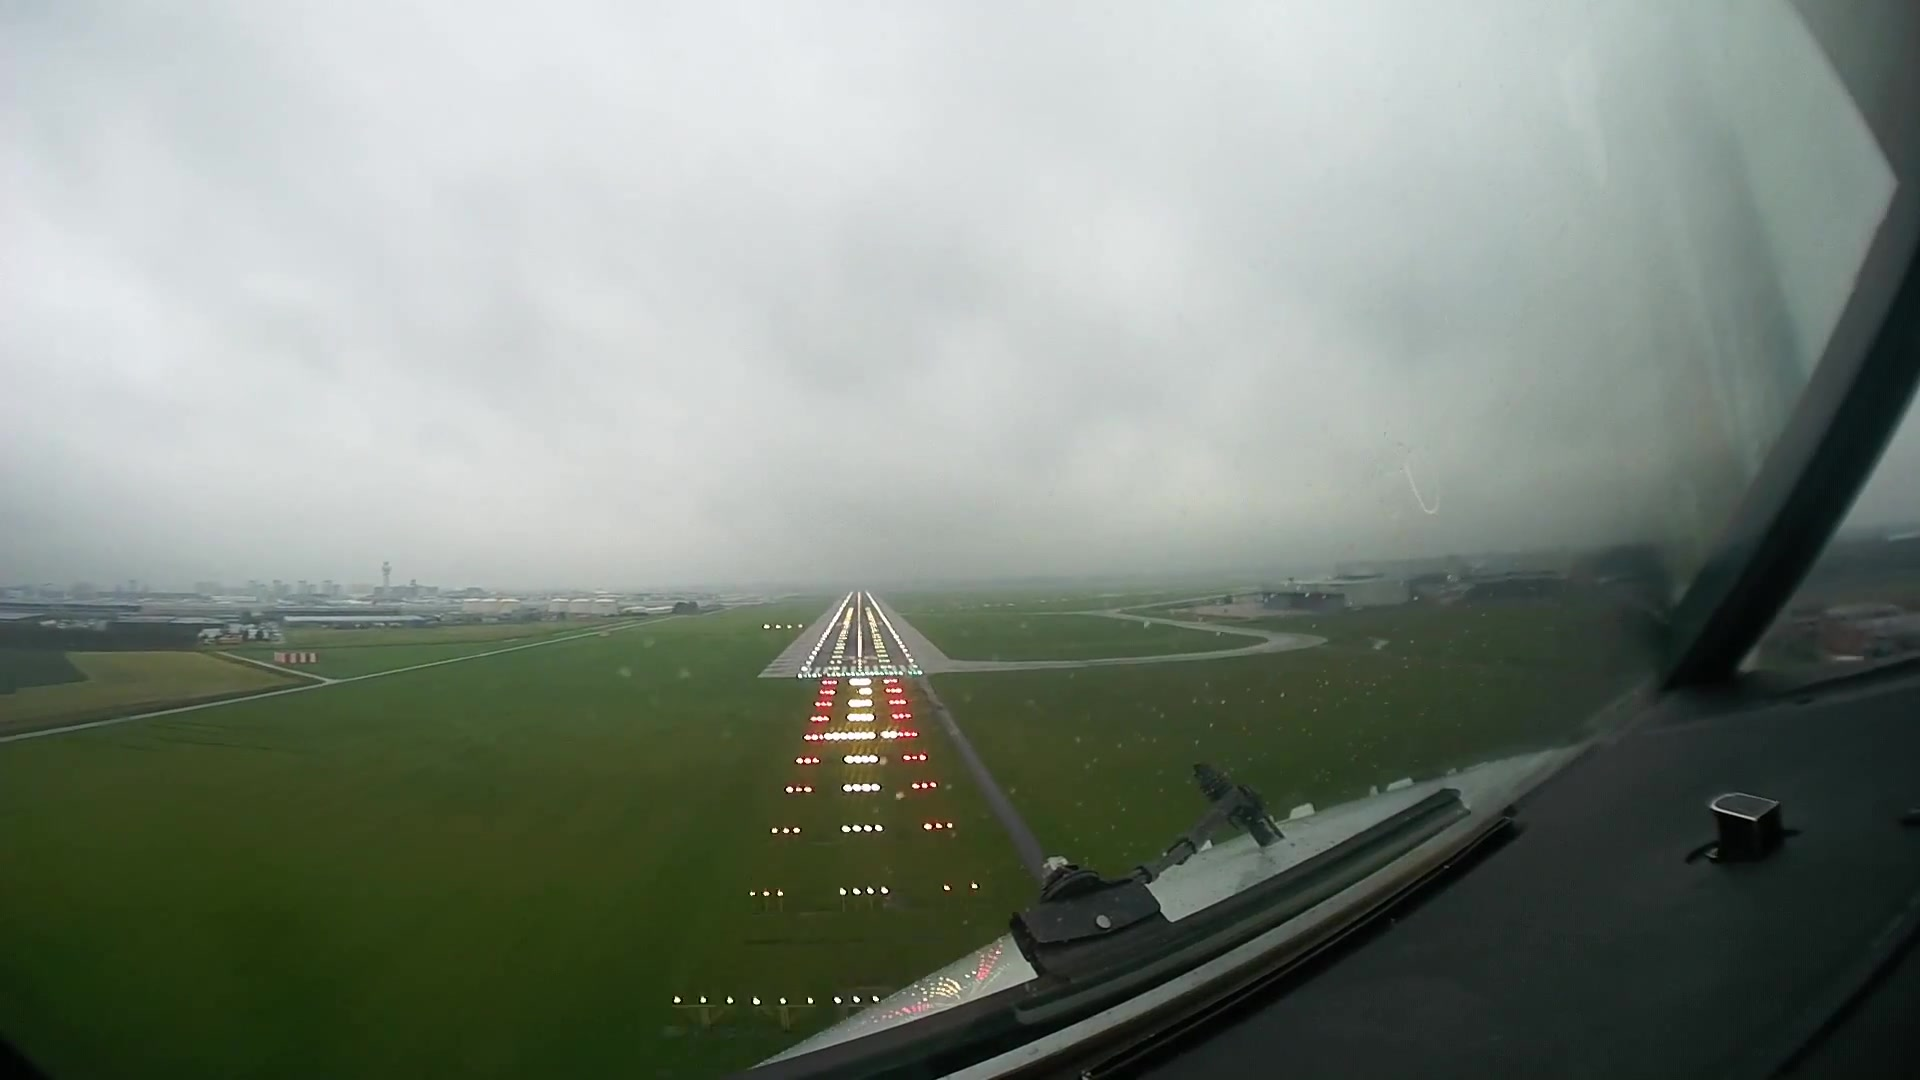runway: (762, 591, 945, 679)
